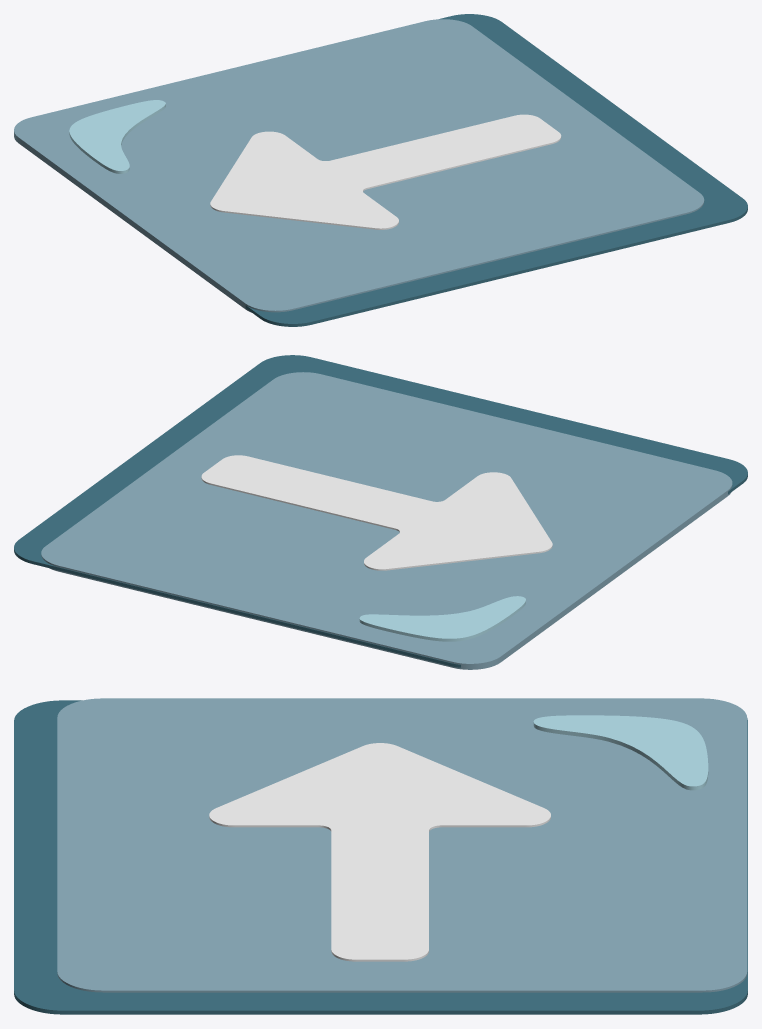
Rendered from emoji_u2b05.glb.
3 views of the same model, one above another, from view 1: azimuth 30°, elevation 25°; view 2: azimuth 150°, elevation 25°; view 3: azimuth 270°, elevation 25° (orthographic). The views are drawn at different scales.
Parts seen in each view (by area): view 1: emoji_u2b05; view 2: emoji_u2b05; view 3: emoji_u2b05.
Boxes of the visible parts, bbox=[...] form: emoji_u2b05: bbox=[14, 14, 747, 326]; emoji_u2b05: bbox=[14, 355, 747, 669]; emoji_u2b05: bbox=[14, 698, 747, 1014].
Size of the model in its own units: 0.0339 by 0.0008 by 0.0339.
